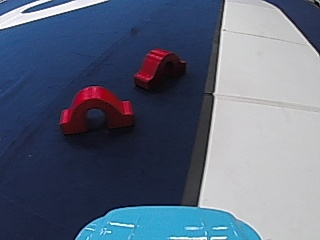bridge: (56, 81, 138, 134), (133, 44, 187, 93)
